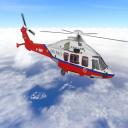helicopter: (17, 12, 120, 86)
